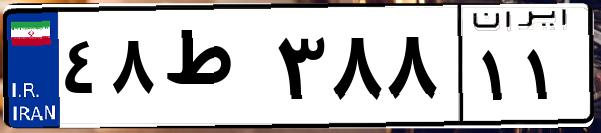1: (475, 38, 525, 113), (525, 38, 570, 115)
3: (270, 28, 330, 110)
4: (57, 26, 110, 100)
8: (385, 28, 445, 110), (330, 28, 385, 110), (110, 28, 158, 98)
ط: (158, 20, 270, 120)
